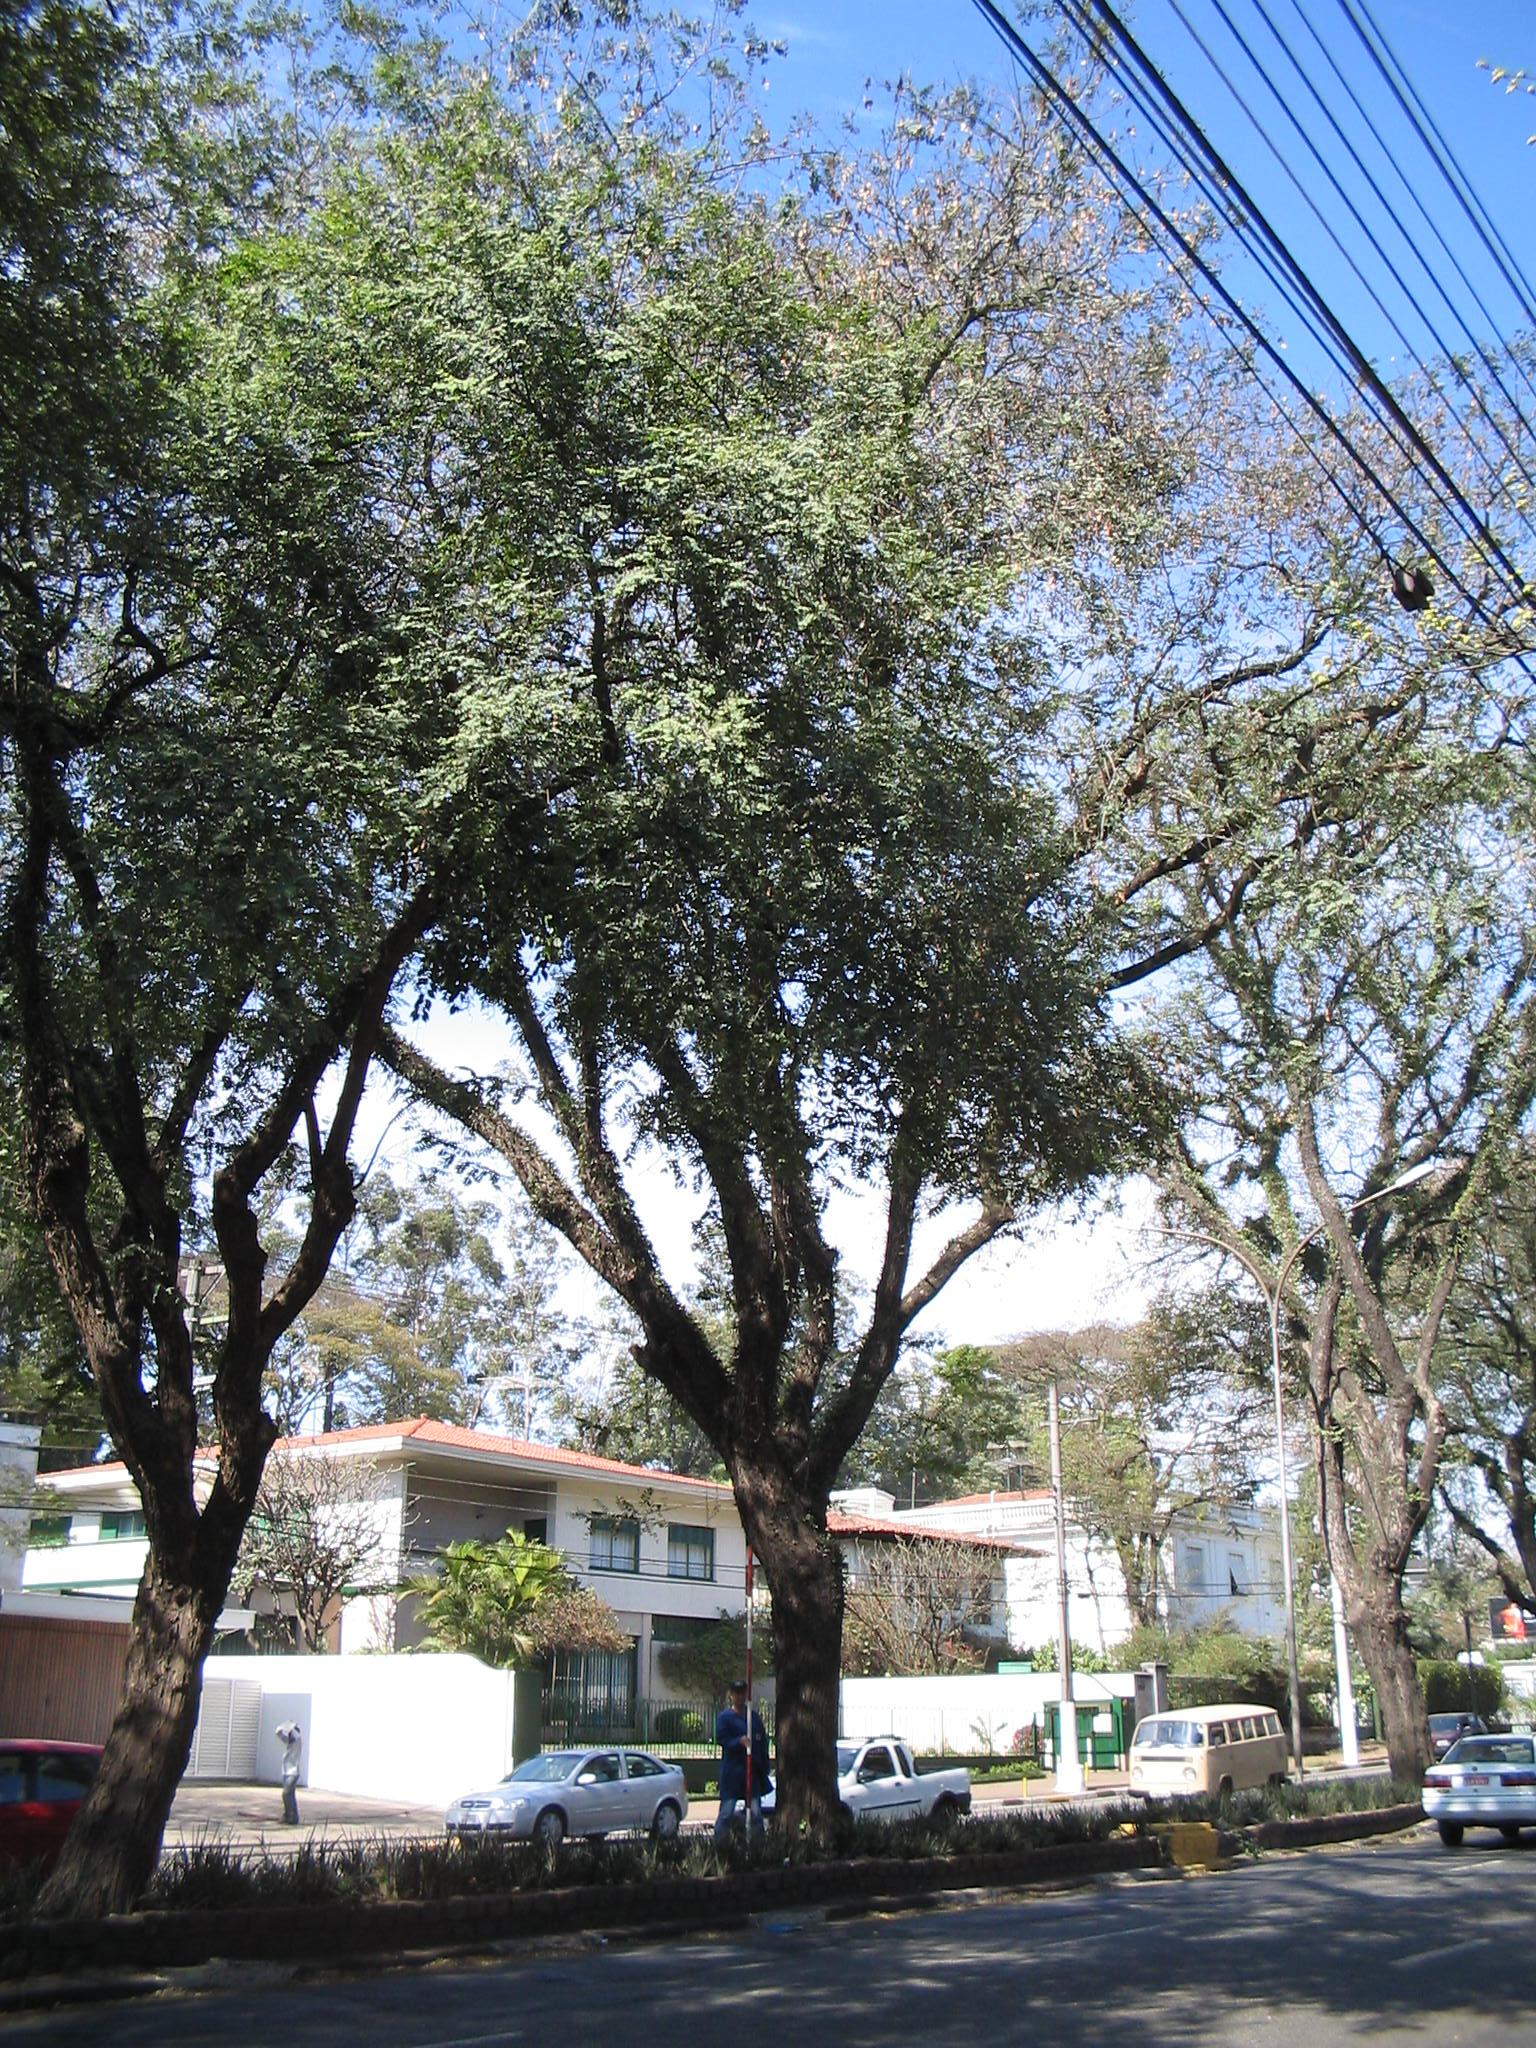crown: (182, 76, 1204, 1242), (18, 11, 531, 1145)
stem: (31, 1521, 253, 1913), (760, 1492, 904, 1858), (1325, 1592, 1460, 1790)
stick: (713, 1540, 778, 1867)
tree: (173, 68, 1212, 1863), (6, 5, 539, 1916), (1146, 326, 1536, 1790)
